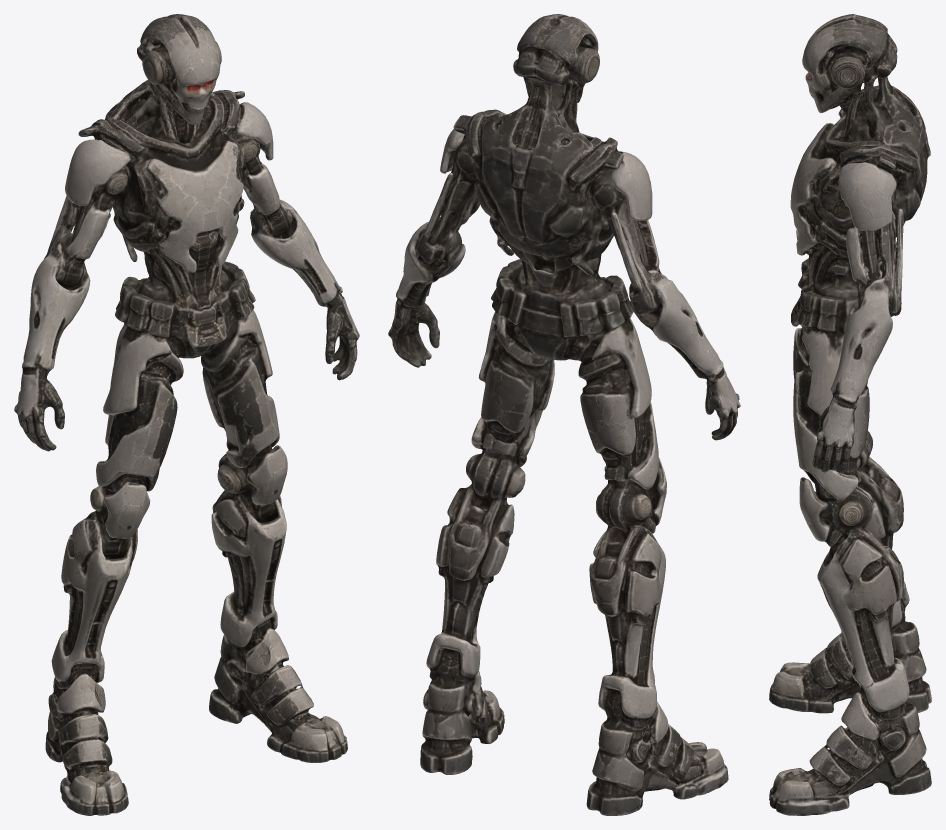
The model's file is reaper-meshy.glb.
The picture shows the model from 3 angles, left to right: view 1: azimuth 30°, elevation 25°; view 2: azimuth 150°, elevation 25°; view 3: azimuth 270°, elevation 25°; orthographic projection. The views are drawn at different scales.
Bounding box in the file's own units: 0.9077 × 1.9 × 0.3822.
Materials: 1 (1 with a texture image).
